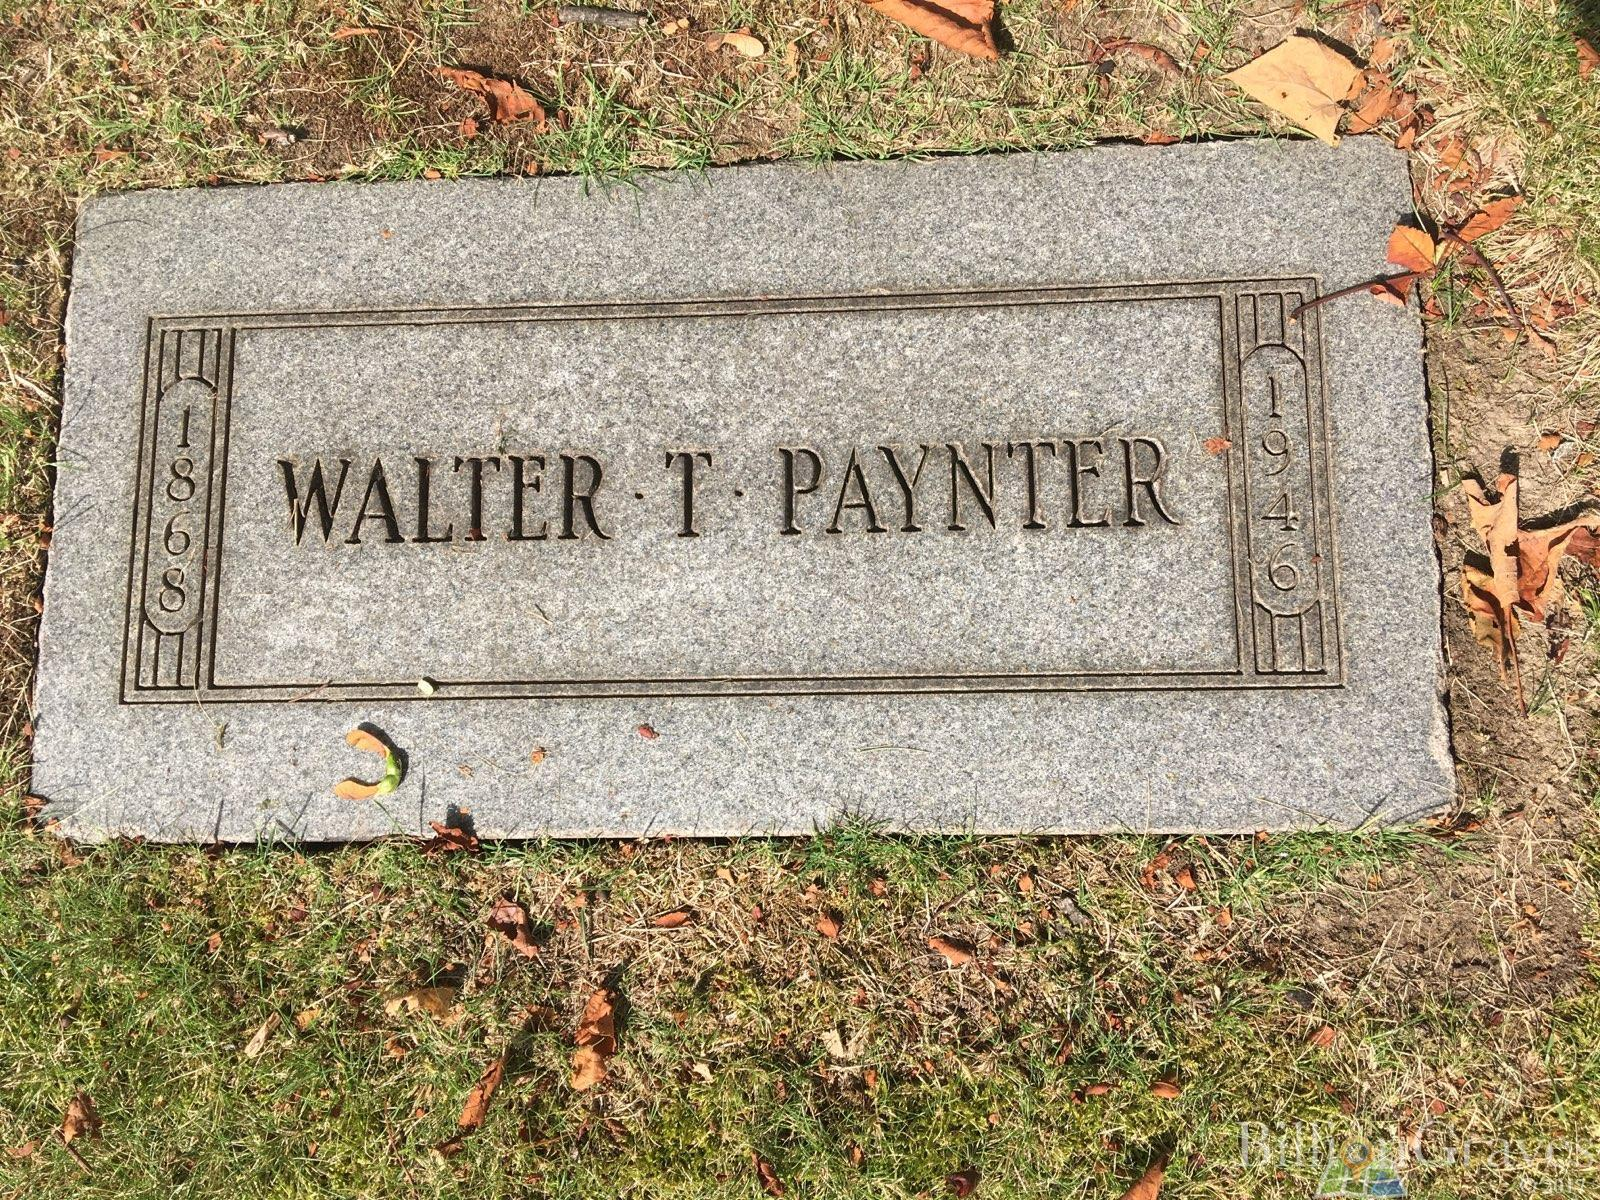flat: (16, 155, 1512, 881)
